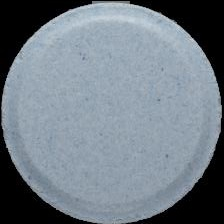54868-2834: (0, 0, 224, 224)
